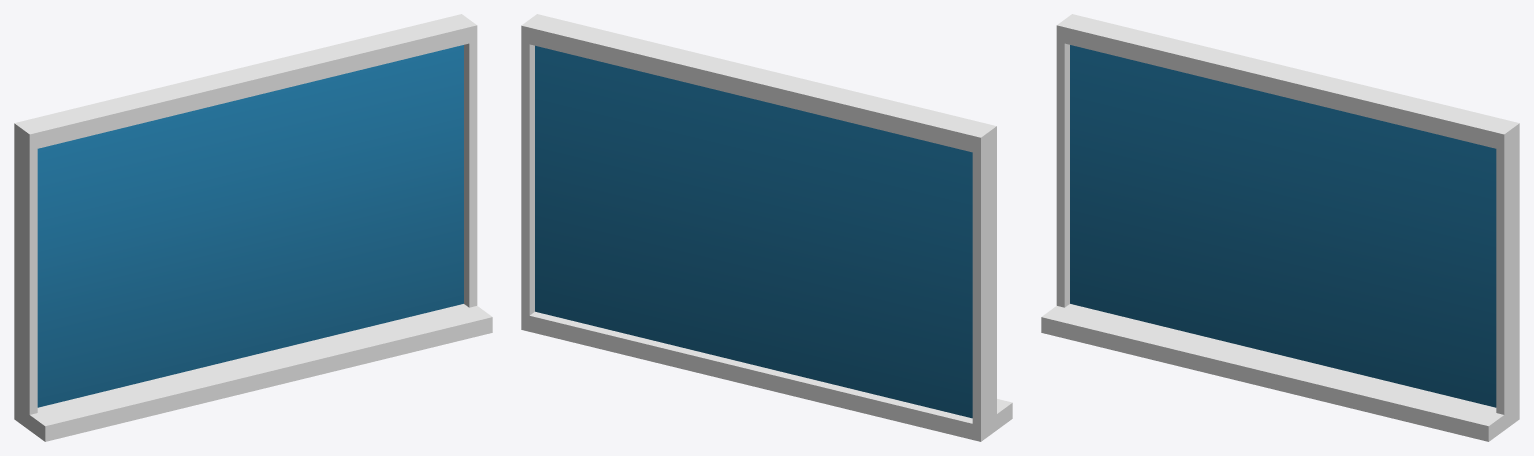
File: WindowLarge03.fbx
3 renders of one model, left to right at view 1: azimuth 30°, elevation 25°; view 2: azimuth 150°, elevation 25°; view 3: azimuth 330°, elevation 25°, orthographic. The views are drawn at different scales.
Visible parts, largest first — view 1: WindowLarge03; view 2: WindowLarge03; view 3: WindowLarge03.
Part boxes in pixels (box(x1,y1,x2,y2)): WindowLarge03: box(14, 14, 492, 441); WindowLarge03: box(521, 14, 1012, 441); WindowLarge03: box(1041, 14, 1519, 441).
Size of the model in its own units: 167 by 106 by 20.
